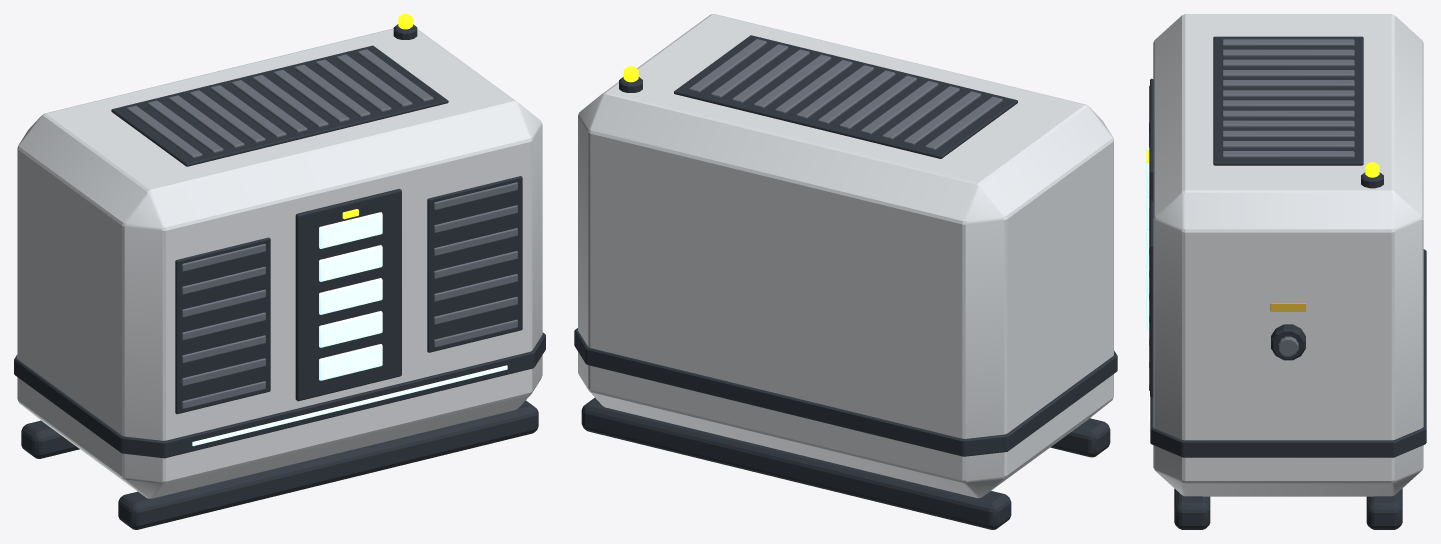
Rendered from Battery_Bank.fbx.
3 views of the same model, side by side, from view 1: azimuth 30°, elevation 25°; view 2: azimuth 150°, elevation 25°; view 3: azimuth 270°, elevation 25° (orthographic). The views are drawn at different scales.
Visible parts, largest first — view 1: Body, Gauge_4, Gauge_3, Gauge_5, Gauge_1, Gauge_2; view 2: Body; view 3: Body.
Boxes of the visible parts, x1,y1,x2,y2 form: Body: [14, 14, 545, 529]; Gauge_4: [319, 245, 382, 281]; Gauge_3: [319, 278, 382, 314]; Gauge_5: [319, 212, 382, 248]; Gauge_1: [319, 344, 382, 380]; Gauge_2: [319, 311, 382, 347]; Body: [574, 14, 1117, 529]; Body: [1146, 14, 1426, 529].
Size of the model in its own units: 1.68 by 1.29 by 0.933.
